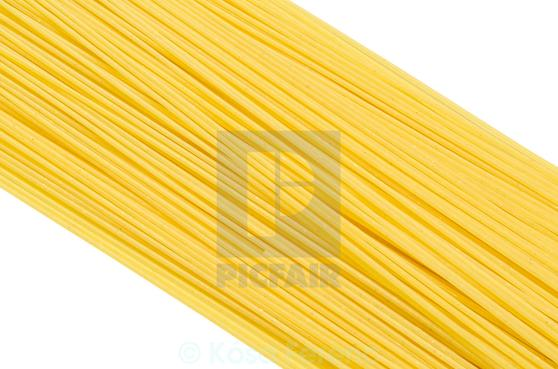spaghetti: (89, 27, 358, 124)
